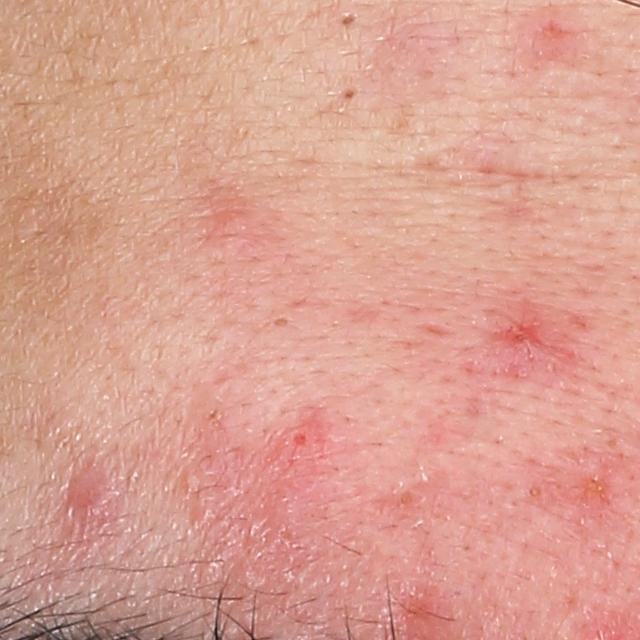comedo: (332, 8, 362, 35), (338, 81, 361, 103), (269, 314, 288, 330), (527, 482, 544, 498)
papule: (488, 316, 549, 373), (62, 469, 112, 519), (526, 14, 565, 63)
